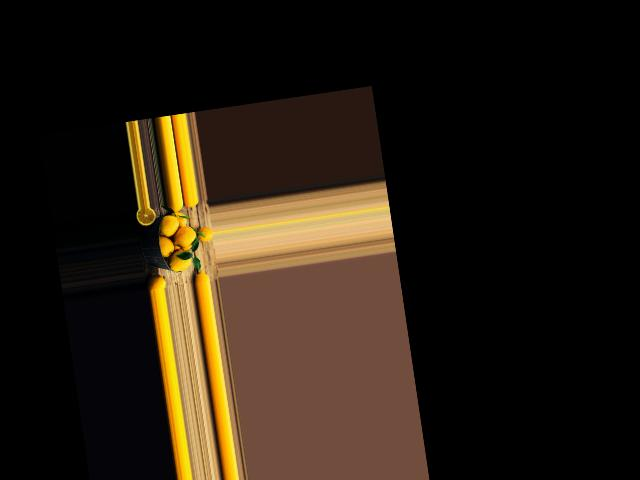lemon: (151, 213, 180, 241)
